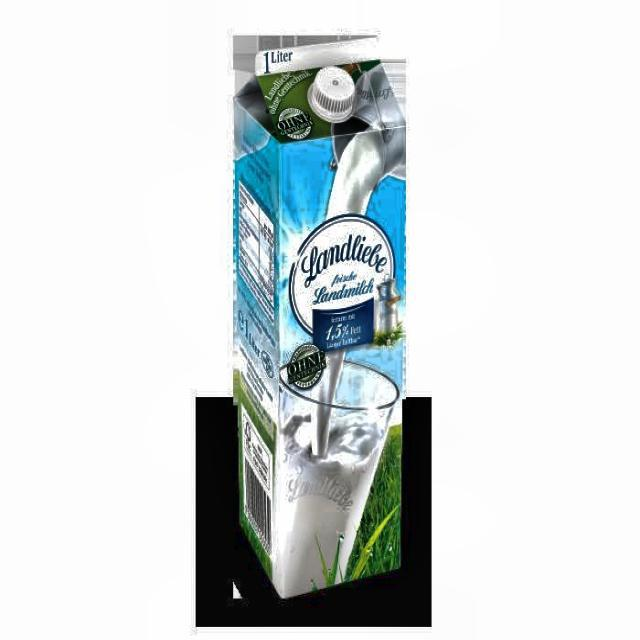cardboard: (230, 36, 407, 598)
